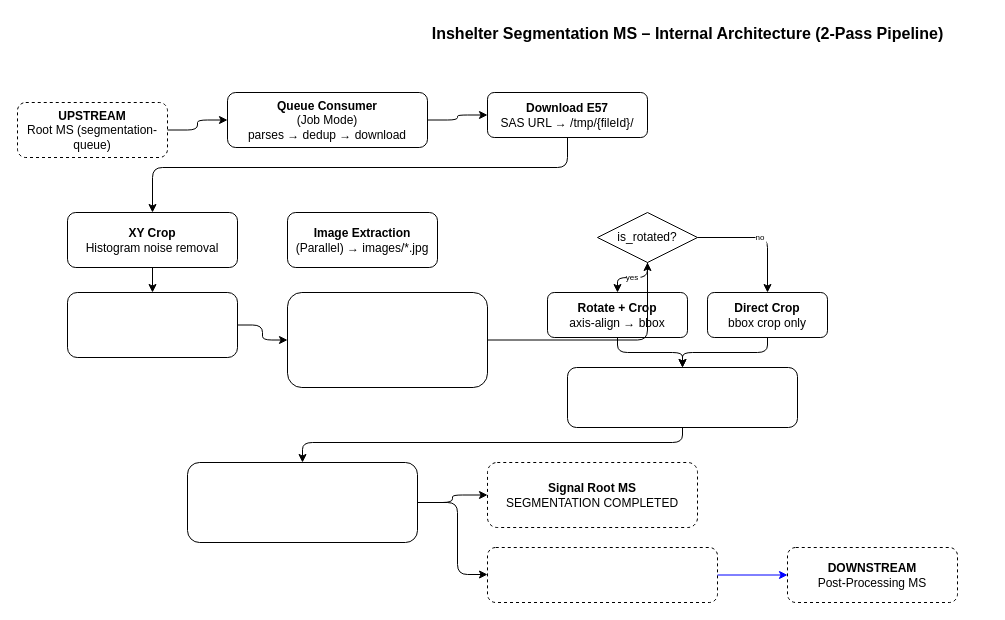
Some shapes in this 1005 by 620 pixel diagram are drawn without their labels. Here are the shapes that lost their labels. From the top down, the centre of each, then its label:
point 152,325: ML Inference (GPU) Pointcept → inference/*.ply
point 387,340: Wall Extraction detect planes, bbox2d, rotation
point 682,397: ML Inference (Pass 2) higher precision → inference_pass2/*.ply
point 302,502: Upload to Blob {fileId}/inference/*.ply etc
point 602,574: Dispatch to Post-Processing → post-processing-queue
